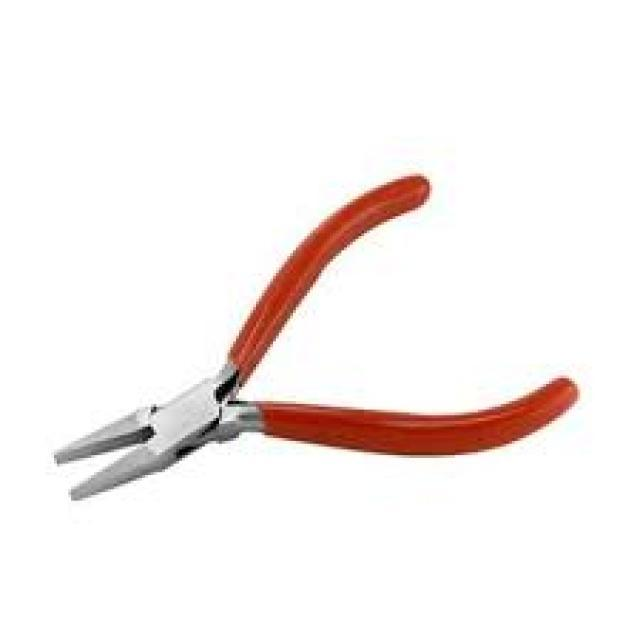pliers: (41, 166, 592, 511)
